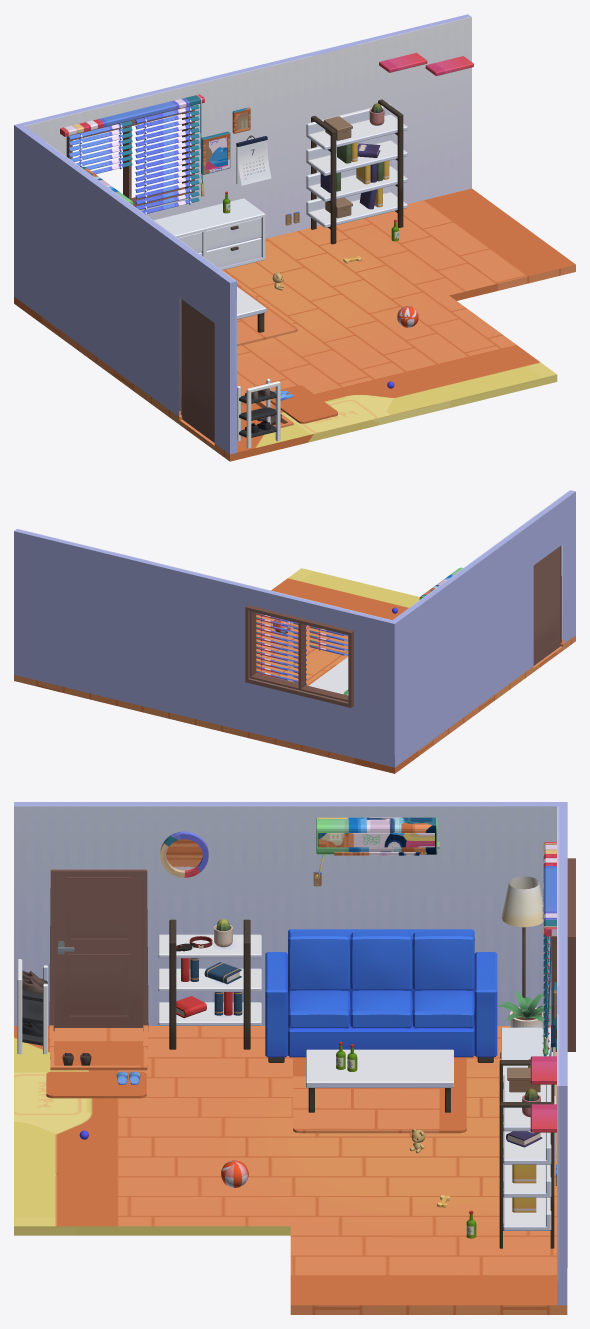
File: stage_2_final.fbx
3 renders of one model, top to bottom at view 1: azimuth 30°, elevation 25°; view 2: azimuth 150°, elevation 25°; view 3: azimuth 270°, elevation 25°, orthographic. The views are drawn at different scales.
Visible parts, largest first — view 1: wall, floor, ornaments, display_cupboard, cabinet, door, Shoe_rack, Calendar, Table; view 2: wall, floor, door, ornaments, Table; view 3: floor, wall, Sofa, door, ornaments, shelf_livingroom, display_cupboard, Table, Shoe_rack, Lighting, cabinet, pot.
Boxes of the visible parts, left/top/right/bottom form: wall: left=14, top=14, right=471, bottom=454; floor: left=14, top=188, right=575, bottom=461; ornaments: left=60, top=52, right=473, bottom=225; display_cupboard: left=306, top=99, right=407, bottom=244; cabinet: left=154, top=198, right=265, bottom=270; door: left=181, top=299, right=214, bottom=442; Shoe_rack: left=237, top=378, right=280, bottom=448; Calendar: left=236, top=135, right=271, bottom=185; Table: left=237, top=287, right=266, bottom=332; wall: left=14, top=490, right=575, bottom=767; floor: left=14, top=568, right=575, bottom=773; door: left=533, top=546, right=560, bottom=665; ornaments: left=256, top=567, right=462, bottom=684; Table: left=309, top=657, right=348, bottom=695; floor: left=14, top=1025, right=567, bottom=1314; wall: left=14, top=802, right=575, bottom=1305; Sofa: left=265, top=929, right=497, bottom=1062; door: left=54, top=875, right=142, bottom=1027; ornaments: left=160, top=817, right=556, bottom=1185; shelf_livingroom: left=158, top=919, right=261, bottom=1049; display_cupboard: left=499, top=1060, right=554, bottom=1248; Table: left=306, top=1049, right=453, bottom=1112; Shoe_rack: left=17, top=959, right=47, bottom=1054; Lighting: left=501, top=876, right=543, bottom=997; cabinet: left=500, top=1027, right=556, bottom=1162; pot: left=497, top=991, right=551, bottom=1027.
Size of the model in its own units: 971 by 365 by 812.
